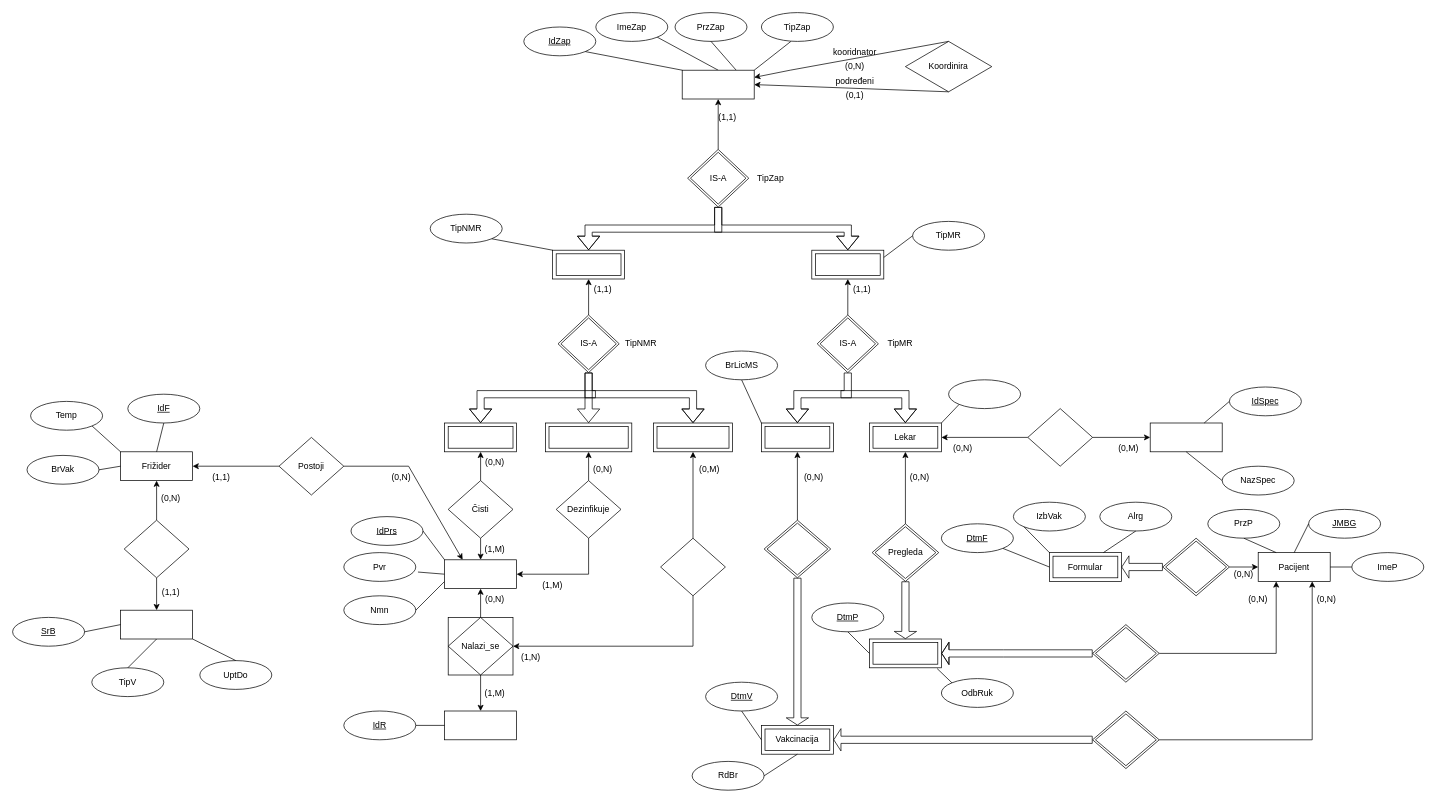
The diagram is 1436 pixels wide and 803 high, and some of its shapes have lost their labels. Here are the shapes that lost their labels. From the top down, the centre of each, then its label:
At pixel 717 84: "Zaposleni".
At pixel 588 264: "Nemedicinsko osoblje".
At pixel 847 264: "Medicinsko osoblje".
At pixel 984 394: "BrLicLk".
At pixel 480 437: "Spremačica".
At pixel 588 437: "Član dezinfekcionog tima".
At pixel 693 437: "Tehnička podrška".
At pixel 797 437: "Medicinska sestra".
At pixel 1060 437: "Ima".
At pixel 1185 437: "Specijalnost".
At pixel 156 548: "Čuva_se".
At pixel 692 566: "Održava".
At pixel 797 548: "Vakciniše".
At pixel 1195 566: "Popunjava".
At pixel 480 574: "Prostorija".
At pixel 156 624: "Vakcina".
At pixel 905 653: "Pregled".
At pixel 1125 653: "Je_pregledan".
At pixel 480 725: "Računarski sistem".
At pixel 1125 739: "Je_vakcinisan".
